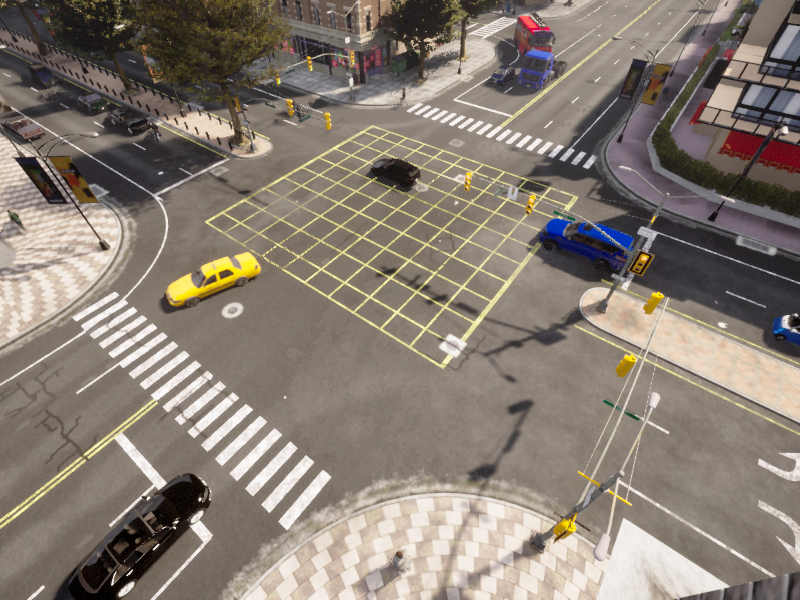vehicle: (150, 243, 260, 316), (530, 202, 637, 276), (365, 147, 421, 189), (100, 99, 157, 138), (144, 118, 171, 145), (277, 92, 301, 116)
